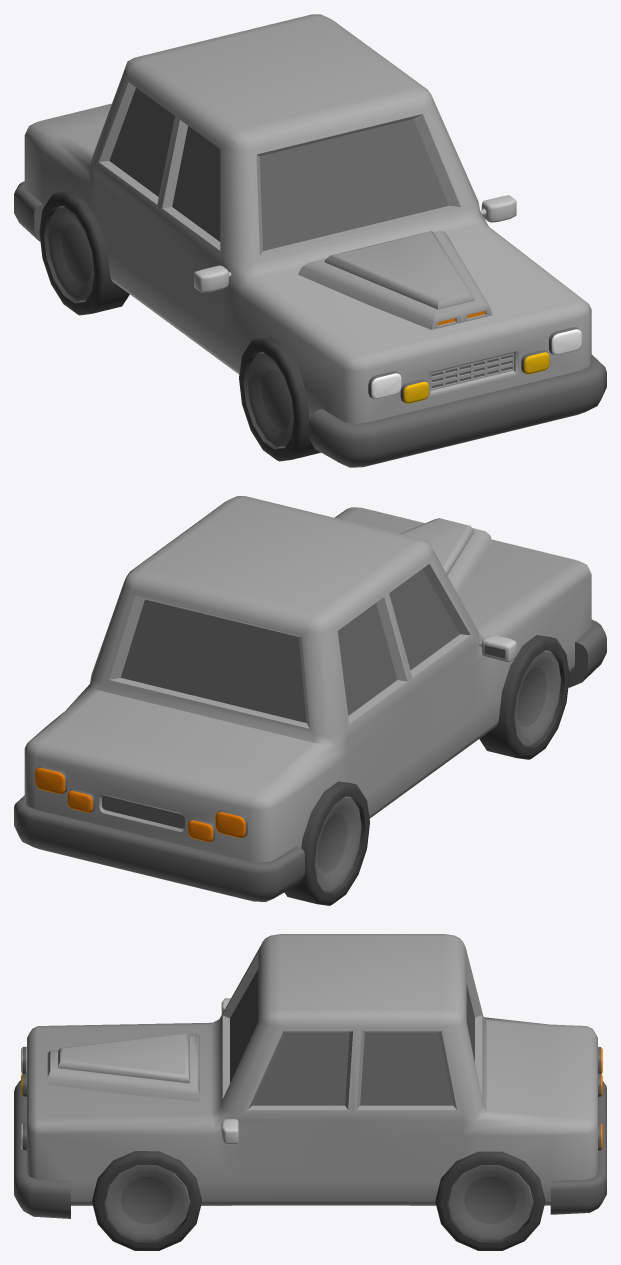
The model's file is Car_1B.fbx.
3 views of the same model, one above another, from view 1: azimuth 30°, elevation 25°; view 2: azimuth 150°, elevation 25°; view 3: azimuth 270°, elevation 25° (orthographic). The views are drawn at different scales.
Parts seen in each view (by area): view 1: Car_1B; view 2: Car_1B; view 3: Car_1B.
Boxes of the visible parts, x1=… form: Car_1B: x1=14, y1=14, x2=606, y2=467; Car_1B: x1=14, y1=496, x2=606, y2=905; Car_1B: x1=14, y1=934, x2=606, y2=1250.
Size of the model in its own units: 0.3141 by 0.2457 by 0.5921.
